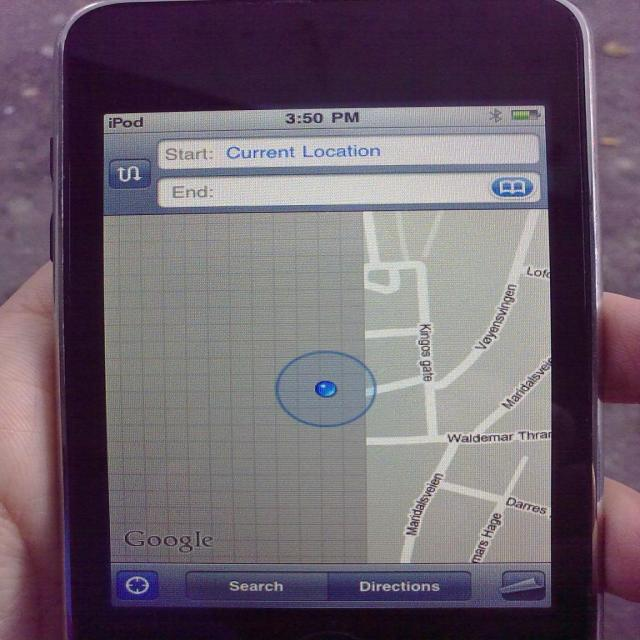Mobile-phone: (16, 8, 614, 623)
